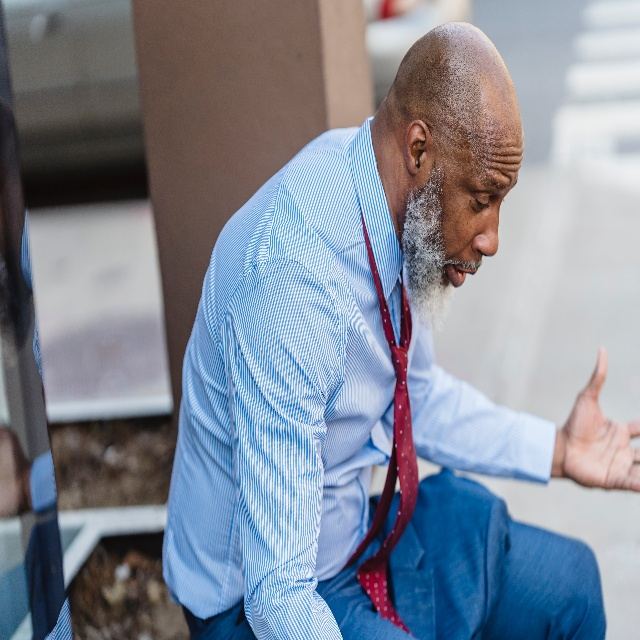Sin_guantes: (562, 345, 640, 493)
